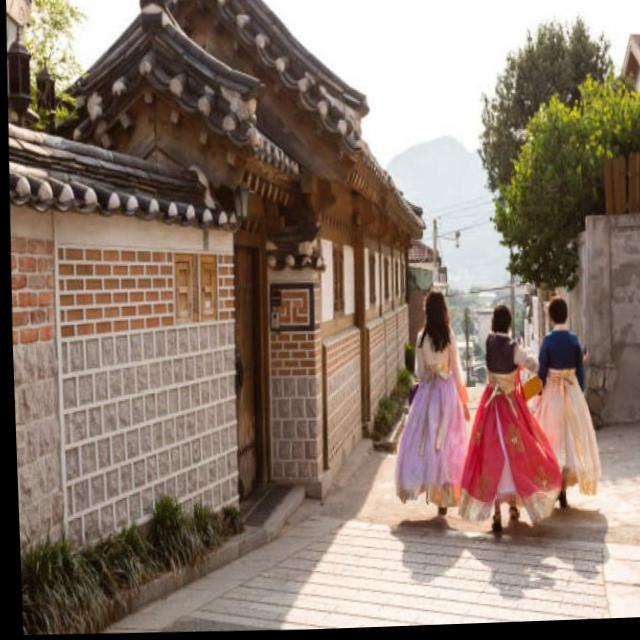no helmet: (415, 279, 454, 352), (483, 291, 513, 346), (541, 304, 574, 338)
